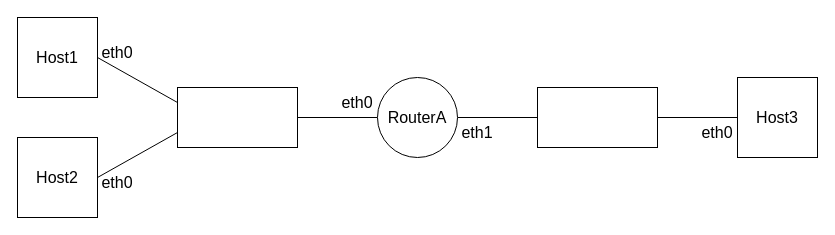
Image size: 835x235. Some labels were removed from this diagram. Each missing label, with the box of its shape:
Switch1: (176, 86, 298, 148)
Switch2: (536, 86, 658, 148)
